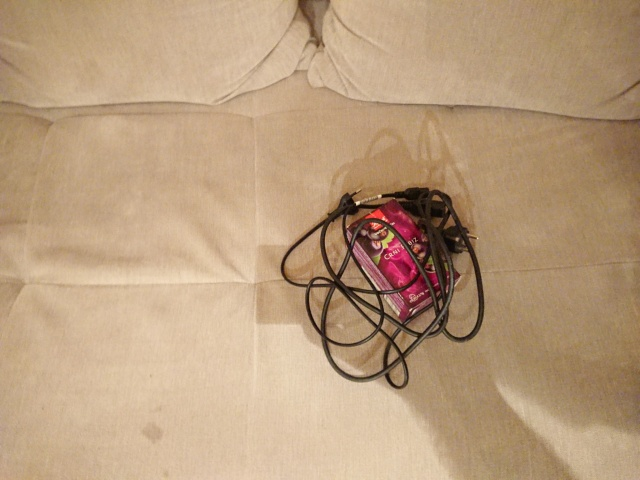Franck Black Currant Tea 60g: (343, 196, 464, 326)
